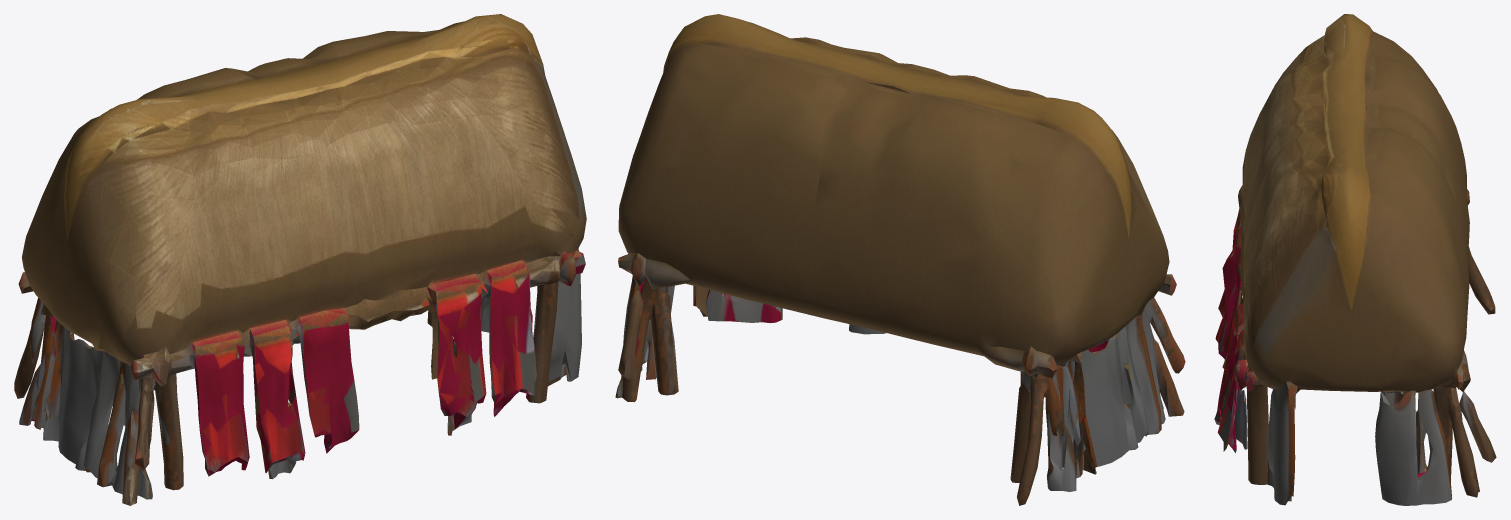
Rendered from mapuches_rewe_caballeria_65b.glb.
3 renders of one model, left to right at view 1: azimuth 30°, elevation 25°; view 2: azimuth 150°, elevation 25°; view 3: azimuth 270°, elevation 25°, orthographic. The views are drawn at different scales.
Parts seen in each view (by area): view 1: geometry_0; view 2: geometry_0; view 3: geometry_0.
Boxes of the visible parts, <box> form: geometry_0: <box>14,14,586,505</box>; geometry_0: <box>615,14,1185,505</box>; geometry_0: <box>1214,14,1496,505</box>.
Bounding box in the file's own units: 3.4 × 2.35 × 1.95.
Materials: 1 (1 with a texture image).
